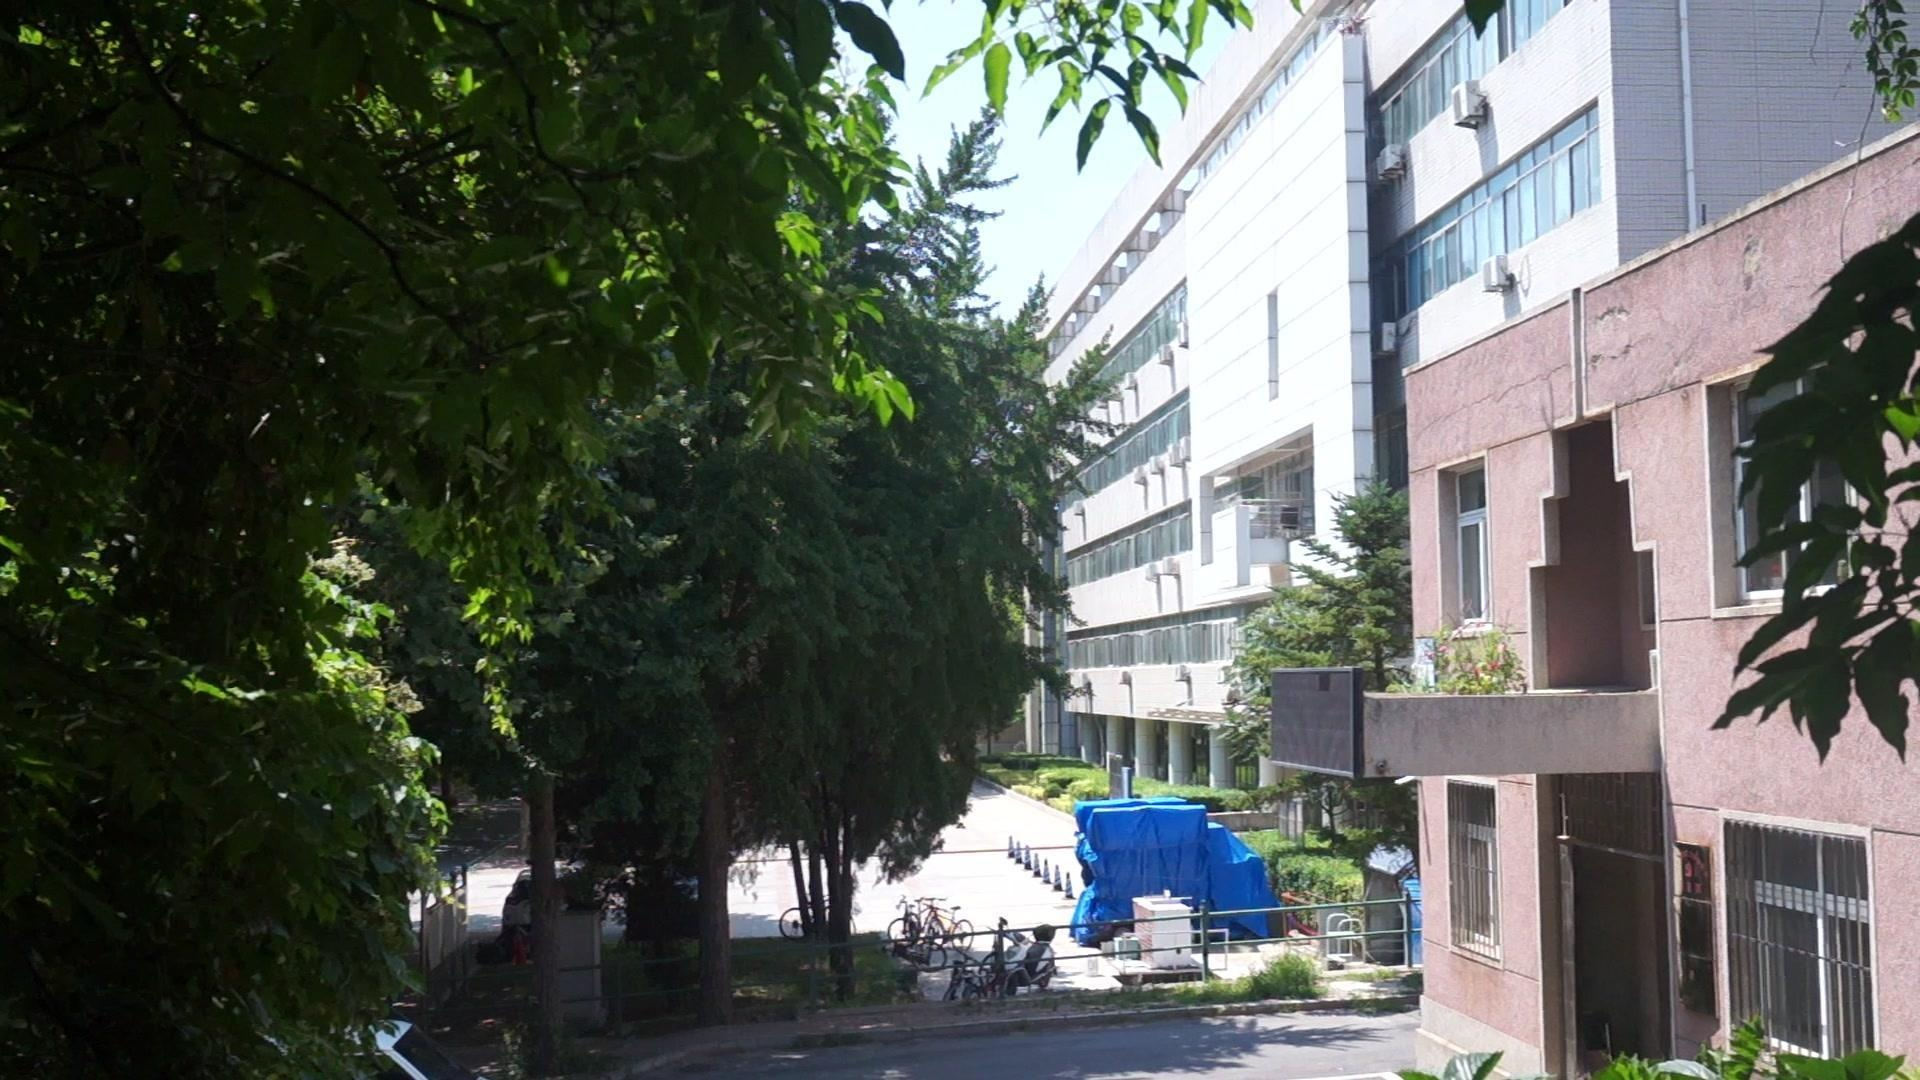UAV: (1323, 16, 1377, 37)
